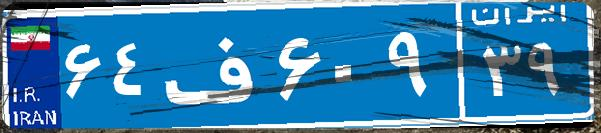0: (330, 28, 385, 110)
3: (475, 38, 525, 113)
4: (110, 28, 158, 105)
6: (273, 28, 330, 110), (57, 26, 110, 107)
9: (385, 28, 445, 110), (525, 38, 570, 115)
ف: (158, 15, 273, 115)
